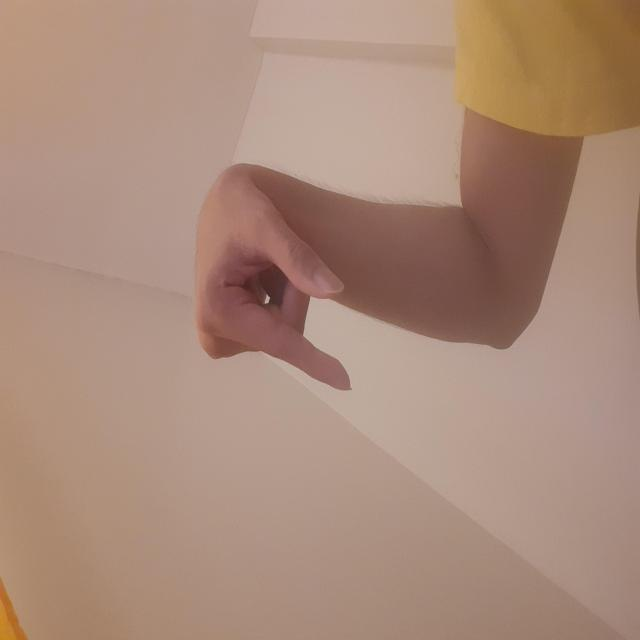Q: (173, 206, 395, 399)
